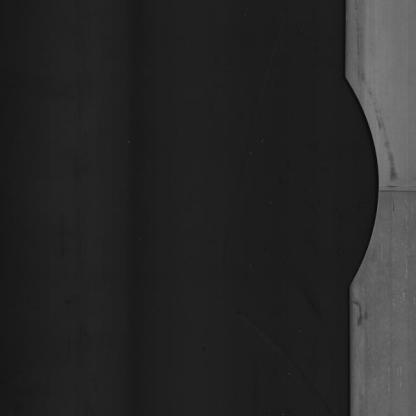crescent_gap: (335, 63, 385, 290)
welding_line: (370, 175, 416, 207)
